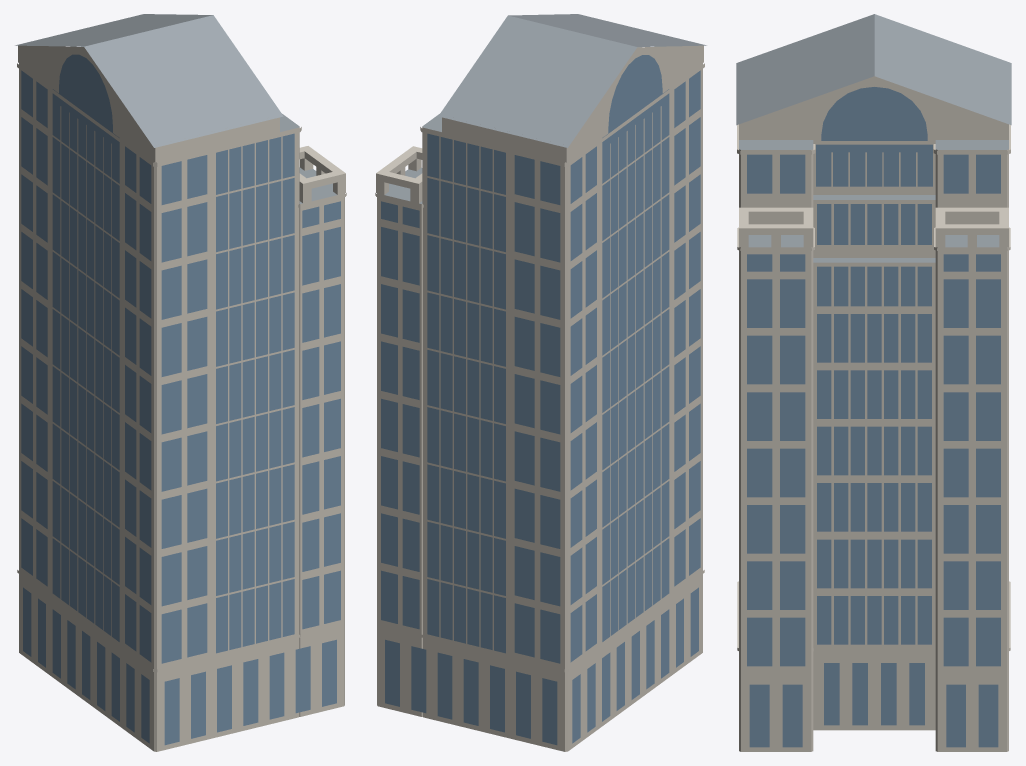
The model's file is nash-fifth-third-center.glb.
The picture shows the model from 3 angles, left to right: view 1: azimuth 30°, elevation 25°; view 2: azimuth 150°, elevation 25°; view 3: azimuth 270°, elevation 25°; orthographic projection.
Parts seen in each view (by area): view 1: Fifth Third Center; view 2: Fifth Third Center; view 3: Fifth Third Center.
Boxes of the visible parts, left/top/right/bottom form: Fifth Third Center: left=15, top=14, right=346, bottom=751; Fifth Third Center: left=375, top=14, right=706, bottom=751; Fifth Third Center: left=736, top=14, right=1011, bottom=751.
Bounding box in the file's own units: 41.6 × 134 × 51.8.
